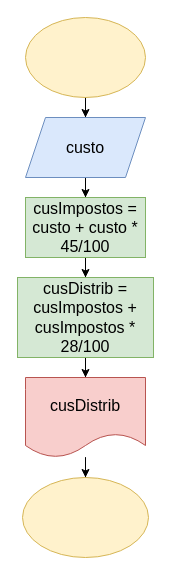
Image size: 171x575. Some labels were removed from this diagram. Here are the shapes that lost their labels. From the top down, the box of each, then its label:
(24, 16, 146, 98): inicio
(22, 476, 148, 558): fim
